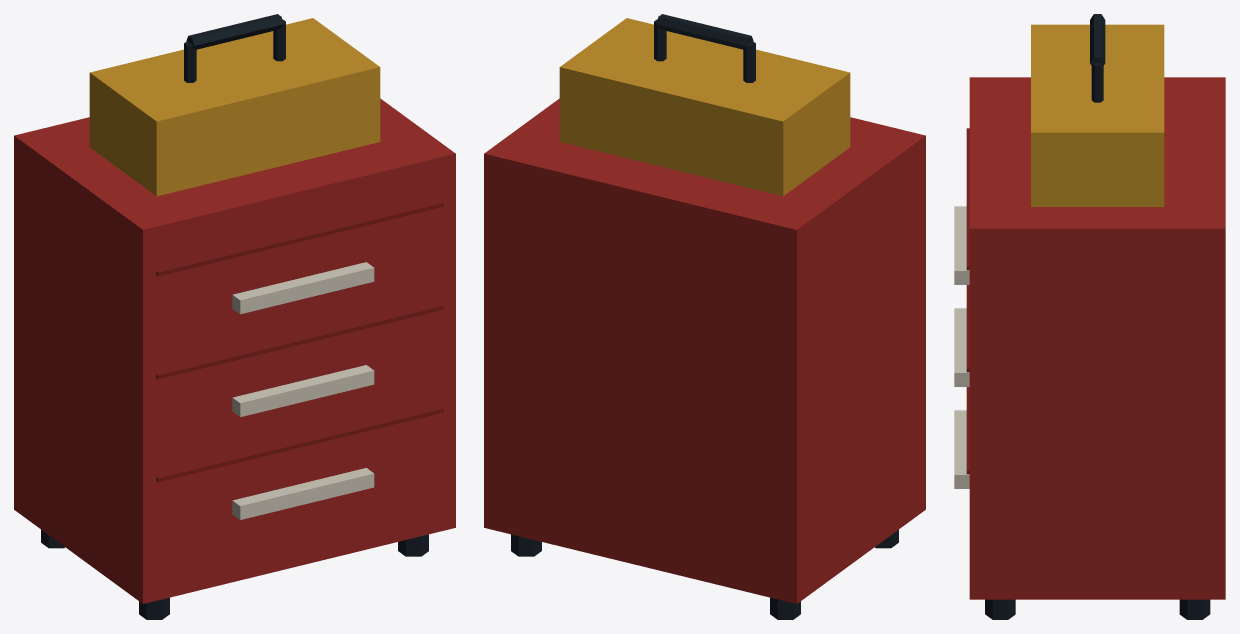
Rendered from gaveteiro_ferramentas.glb.
3 renders of one model, left to right at view 1: azimuth 30°, elevation 25°; view 2: azimuth 150°, elevation 25°; view 3: azimuth 270°, elevation 25°, orthographic.
Visible parts, largest first — view 1: gaveteiro_ferramentas_malha; view 2: gaveteiro_ferramentas_malha; view 3: gaveteiro_ferramentas_malha.
Part boxes in pixels (bbox=[...]): gaveteiro_ferramentas_malha: bbox=[14, 14, 455, 619]; gaveteiro_ferramentas_malha: bbox=[484, 14, 925, 619]; gaveteiro_ferramentas_malha: bbox=[954, 14, 1225, 619].
Bounding box in the file's own units: 0.7 × 1.11 × 0.53.
